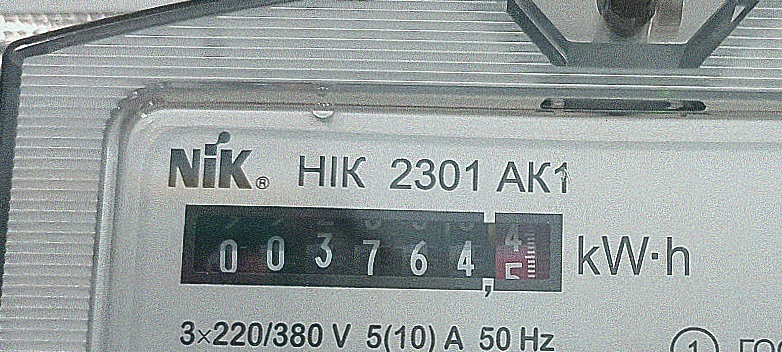0: (215, 236, 240, 273), (263, 232, 286, 272)
3: (311, 229, 334, 269)
4: (455, 237, 476, 277), (502, 221, 524, 253)
5: (501, 259, 524, 281)
6: (408, 237, 429, 277)
7: (359, 235, 383, 277)
screen: (165, 188, 578, 306)
